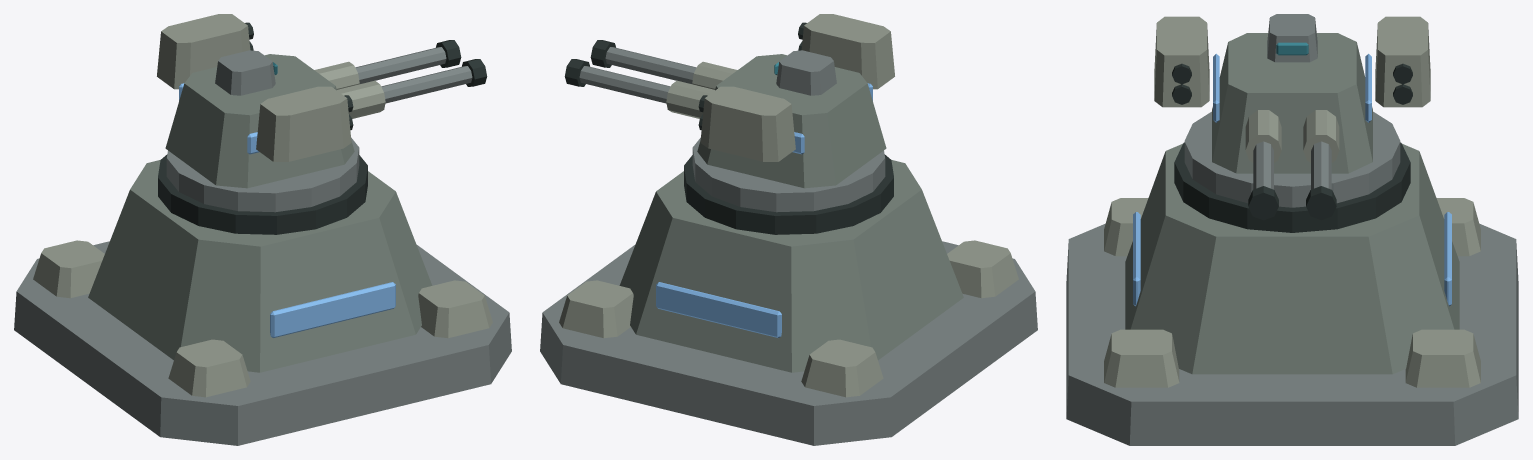
File: sentry_battery.glb
3 views of the same model, side by side, from view 1: azimuth 30°, elevation 25°; view 2: azimuth 150°, elevation 25°; view 3: azimuth 270°, elevation 25° (orthographic). The views are drawn at different scales.
Parts seen in each view (by area): view 1: Hull, Turret; view 2: Hull, Turret; view 3: Hull, Turret.
Boxes of the visible parts, <box> form: Hull: <box>14,154,511,445</box>; Turret: <box>157,14,487,212</box>; Hull: <box>540,154,1037,445</box>; Turret: <box>564,14,894,212</box>; Hull: <box>1066,142,1518,445</box>; Turret: <box>1154,14,1430,220</box>.
Bounding box in the file's own units: 1.95 × 1.39 × 1.8.
